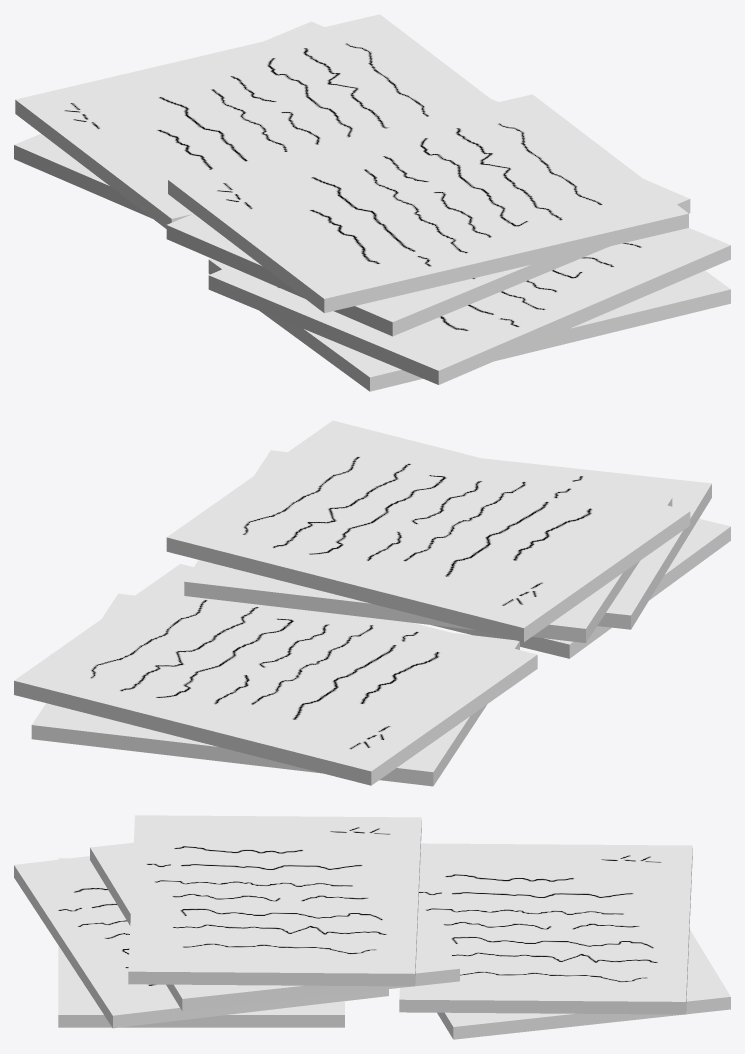
File: papers.glb
3 renders of one model, top to bottom at view 1: azimuth 30°, elevation 25°; view 2: azimuth 150°, elevation 25°; view 3: azimuth 270°, elevation 25°, orthographic. The views are drawn at different scales.
Visible parts, largest first — view 1: Cube; view 2: Cube; view 3: Cube.
Part boxes in pixels (box(x1,y1,x2,y2)): Cube: box(14, 14, 730, 391); Cube: box(14, 420, 730, 786); Cube: box(14, 815, 730, 1039).
Size of the model in its own units: 0.3628 by 0.0506 by 0.6003.
1 material, 1 textured.
